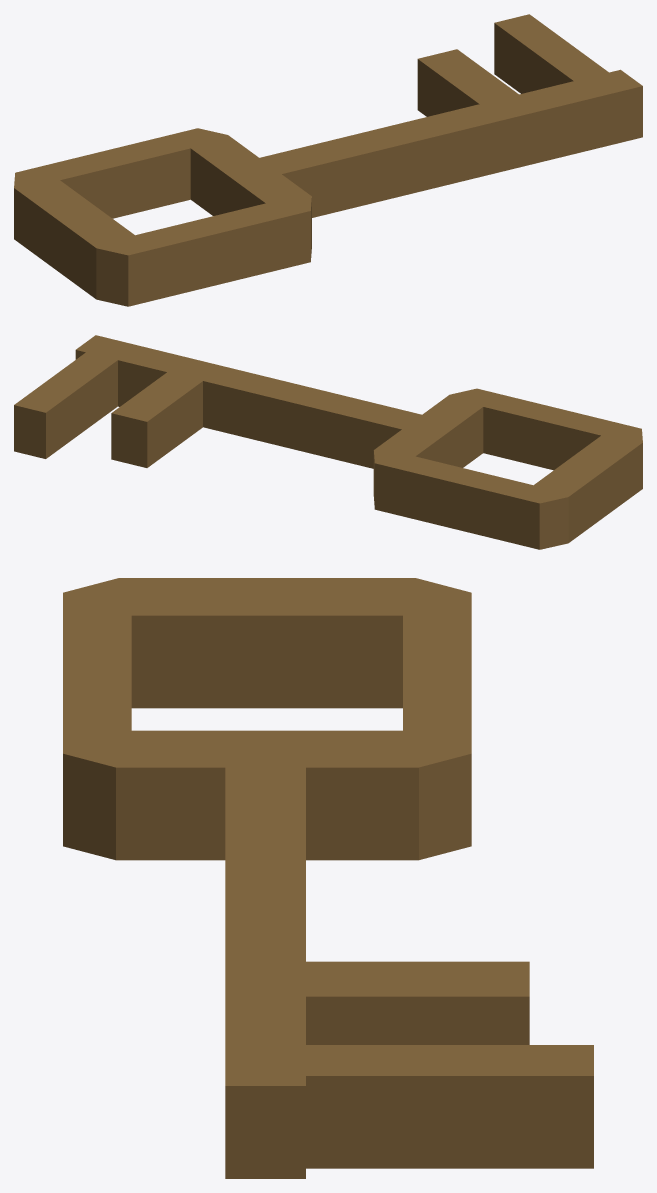
File: Key.fbx
3 views of the same model, one above another, from view 1: azimuth 30°, elevation 25°; view 2: azimuth 150°, elevation 25°; view 3: azimuth 270°, elevation 25° (orthographic). The views are drawn at different scales.
Visible parts, largest first — view 1: Key; view 2: Key; view 3: Key.
Boxes of the visible parts, left/top/right/bottom form: Key: left=14, top=14, right=642, bottom=306; Key: left=14, top=335, right=642, bottom=549; Key: left=63, top=578, right=593, bottom=1178.
Size of the model in its own units: 1175 by 100 by 519.
